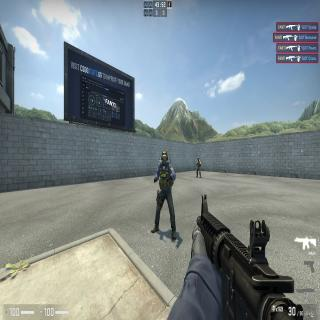CT-Body: (155, 150, 173, 233), (197, 158, 201, 178)
CT-Head: (160, 151, 168, 163), (198, 157, 199, 161)
